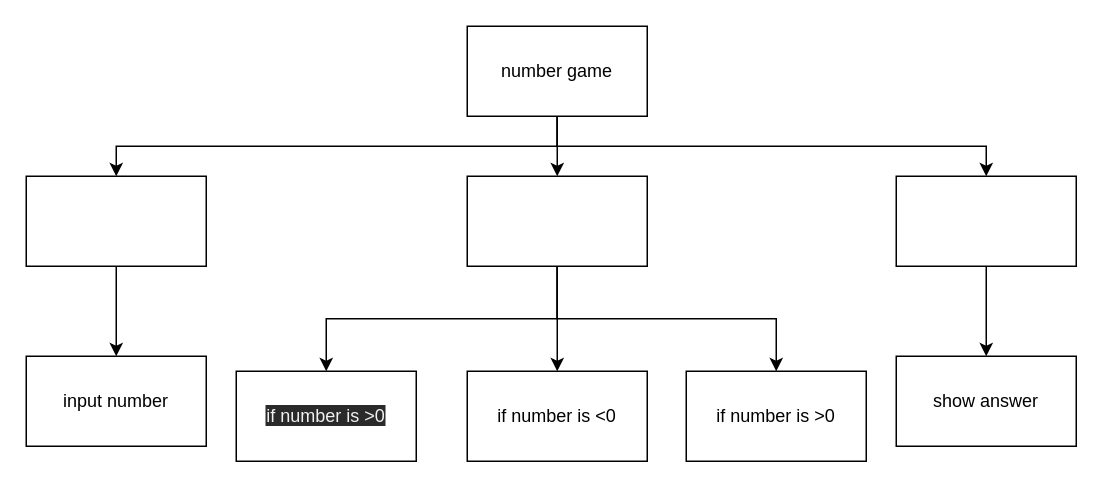
This 1103x497 diagram has some shape labels left out. The shapes that lost their labels are listed below. From the top down, each one's centre as x and y in pixels, then its label:
At point (115, 220): "Input".
At point (556, 220): "Process".
At point (985, 220): "Output".
